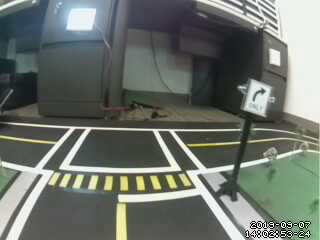Right_only_sign: (248, 80, 270, 119)
